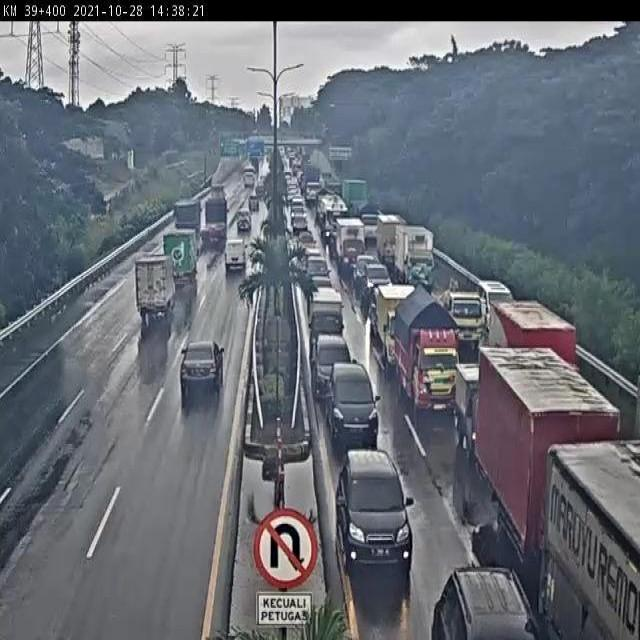big truck: (483, 351, 612, 548), (543, 432, 640, 592), (496, 300, 582, 376), (202, 196, 231, 248), (176, 193, 205, 232)
car: (340, 448, 414, 572), (332, 357, 385, 451), (309, 336, 358, 405), (183, 340, 233, 396), (479, 280, 526, 320), (355, 260, 394, 304), (223, 237, 249, 268), (235, 204, 253, 236)
small truck: (399, 295, 463, 421), (374, 282, 425, 366), (440, 270, 487, 350), (395, 224, 440, 295), (135, 256, 176, 321), (161, 230, 199, 282), (310, 281, 349, 331), (378, 213, 408, 270)
